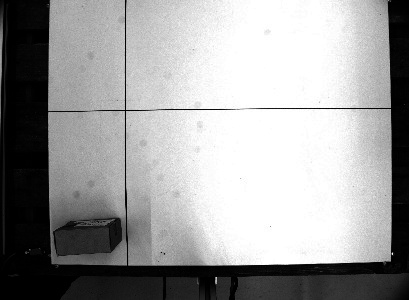b6: (50, 215, 124, 258)
